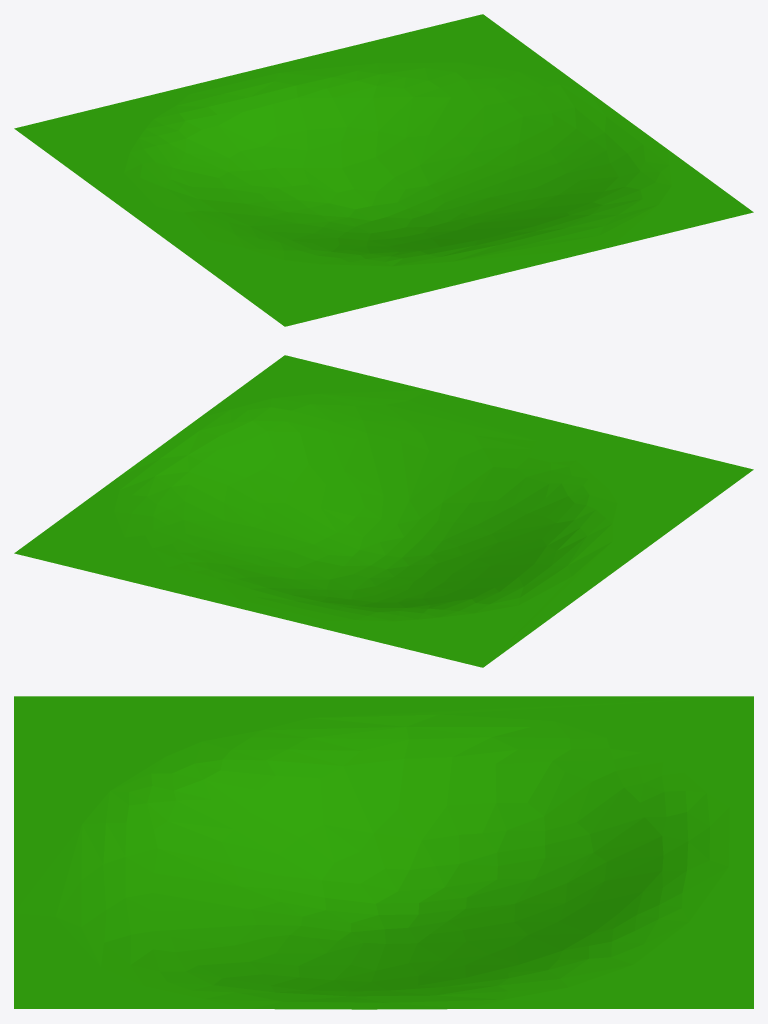
Rendered from Terrain.fbx.
3 views of the same model, one above another, from view 1: azimuth 30°, elevation 25°; view 2: azimuth 150°, elevation 25°; view 3: azimuth 270°, elevation 25° (orthographic). The views are drawn at different scales.
Parts seen in each view (by area): view 1: Terrain - Starting; view 2: Terrain - Starting; view 3: Terrain - Starting.
Boxes of the visible parts, x1,y1,x2,y2 form: Terrain - Starting: [14, 14, 753, 326]; Terrain - Starting: [14, 355, 753, 667]; Terrain - Starting: [14, 696, 753, 1009].
Size of the model in its own units: 5000 by 462 by 5000.
